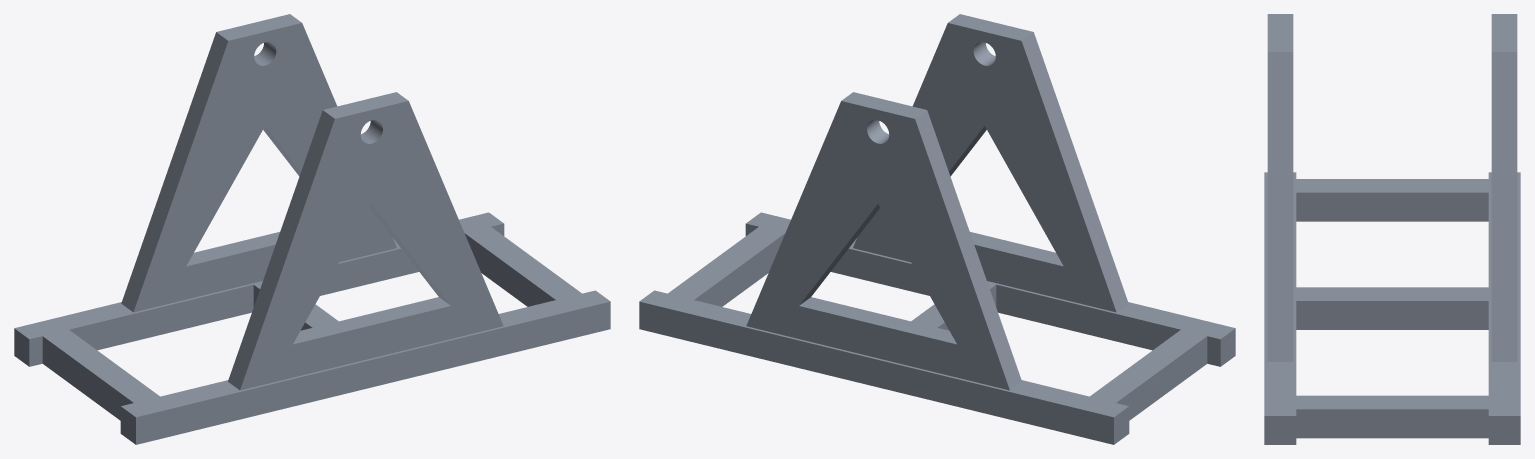
The model's file is step-2-preview-1.glb.
The picture shows the model from 3 angles, left to right: view 1: azimuth 30°, elevation 25°; view 2: azimuth 150°, elevation 25°; view 3: azimuth 270°, elevation 25°; orthographic projection. The views are drawn at different scales.
Visible parts, largest first — view 1: preview_17, preview_3, preview_10, preview_2, preview_23, preview_0, preview_18, preview_5, preview_28, preview_27, preview_36, preview_30 (+3 smaller); view 2: preview_29, preview_20, preview_11, preview_2, preview_22, preview_18, preview_0, preview_5, preview_25, preview_27, preview_30, preview_36 (+3 smaller); view 3: preview_2, preview_4, preview_19, preview_16, preview_21, preview_26, preview_1, preview_35, preview_12, preview_13.
Part boxes in pixels (x1,y1,x2,y2): preview_17: [240, 101, 503, 390]; preview_3: [133, 23, 396, 312]; preview_10: [136, 301, 610, 444]; preview_2: [14, 212, 610, 417]; preview_23: [69, 284, 253, 350]; preview_0: [121, 32, 228, 312]; preview_18: [228, 110, 334, 389]; preview_5: [42, 336, 133, 420]; preview_28: [320, 248, 418, 295]; preview_27: [464, 233, 555, 306]; preview_36: [293, 297, 450, 344]; preview_30: [186, 232, 279, 266]; preview_29: [746, 101, 1009, 390]; preview_20: [853, 23, 1116, 312]; preview_11: [639, 301, 1113, 444]; preview_2: [639, 212, 1235, 417]; preview_22: [996, 284, 1180, 350]; preview_18: [1021, 32, 1128, 312]; preview_0: [915, 110, 1021, 389]; preview_5: [1116, 336, 1207, 420]; preview_25: [831, 248, 929, 295]; preview_27: [694, 233, 785, 306]; preview_30: [799, 297, 956, 344]; preview_36: [970, 232, 1063, 266]; preview_2: [1264, 172, 1520, 415]; preview_4: [1491, 52, 1517, 361]; preview_19: [1267, 52, 1293, 361]; preview_16: [1296, 409, 1488, 438]; preview_21: [1296, 192, 1488, 221]; preview_26: [1296, 301, 1488, 329]; preview_1: [1491, 14, 1517, 51]; preview_35: [1267, 14, 1293, 51]; preview_12: [1264, 416, 1296, 444]; preview_13: [1488, 416, 1520, 444].
Bounding box in the file's own units: 0.18 × 0.1 × 0.08.
